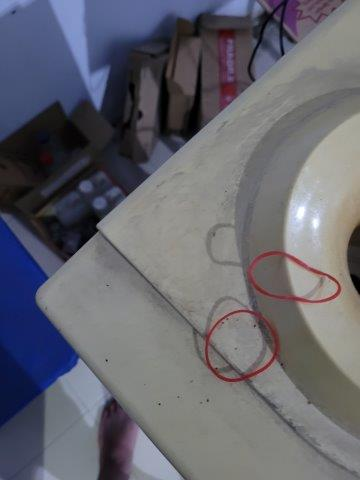karet: (205, 310, 280, 381), (248, 251, 343, 304)
